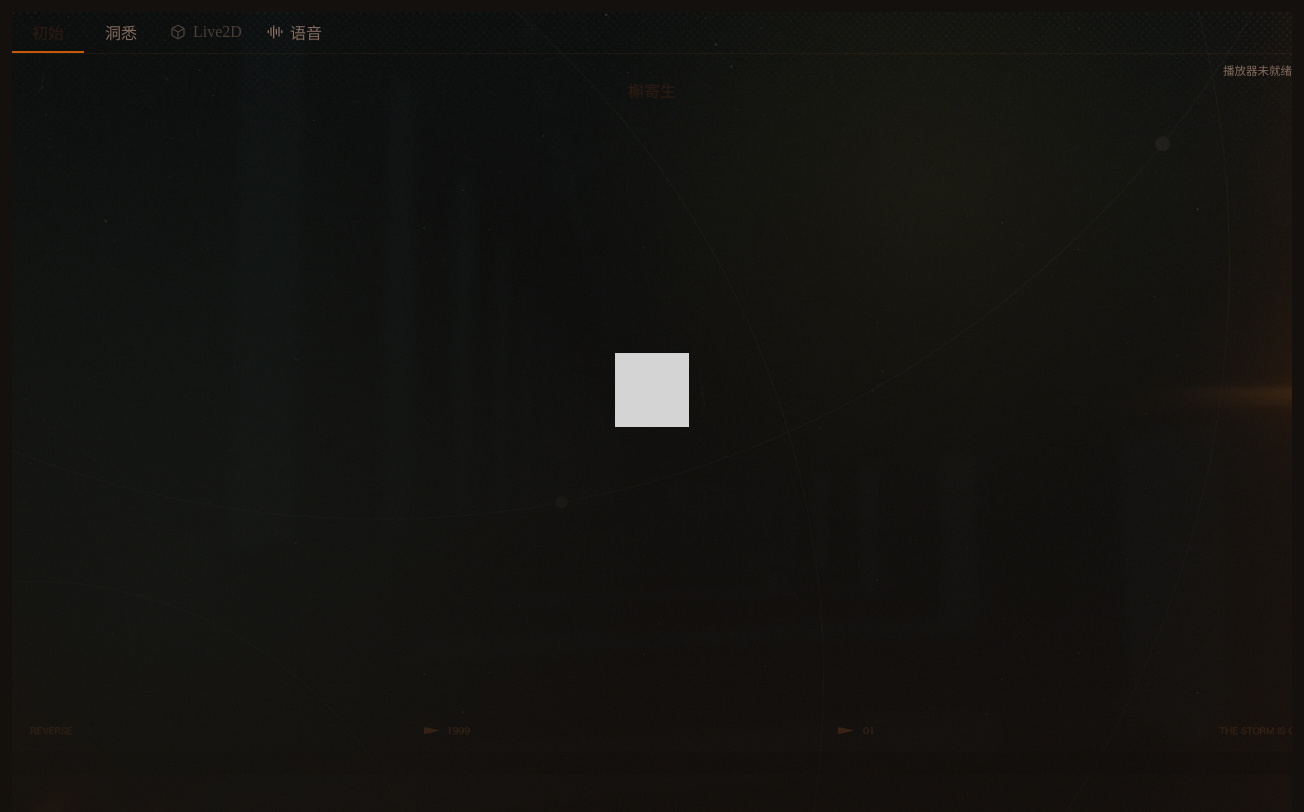
Test: CharacterMediaStage › keeps voice records behind an explicit entry
The width and height of the screenshot is (1304, 812).
Click the button "语音": [294, 32] box [255,12,334,53]
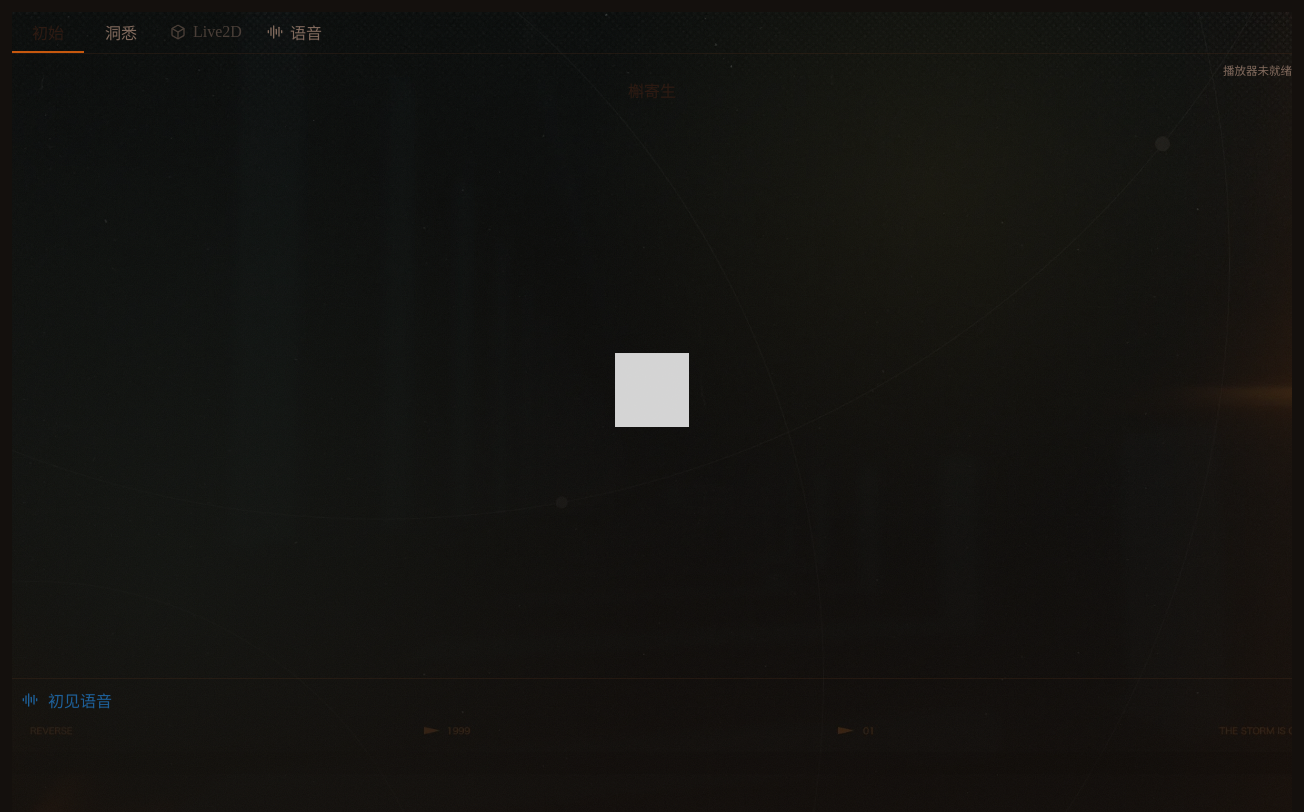
Check: the element with test id "voice-list" is shown, box [12,678,1292,721]
